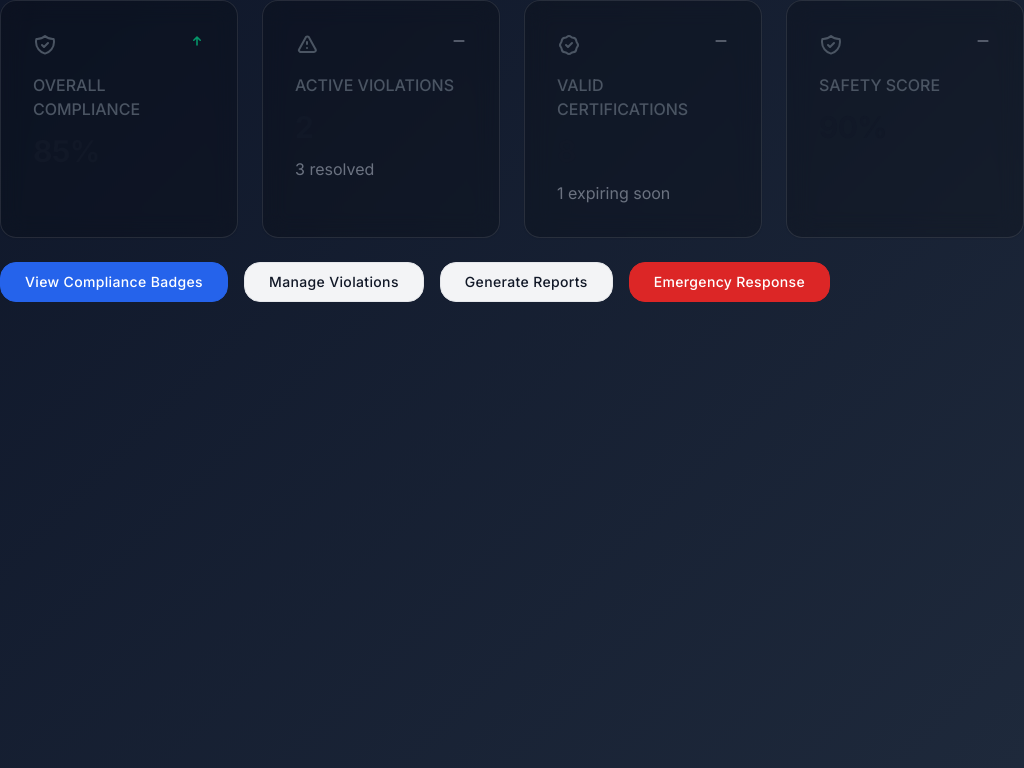
Test: ComplianceDashboard › opens badges modal when button is clicked
Click the button "View Compliance Badges". click: (114, 282)
box: [0, 262, 228, 302]
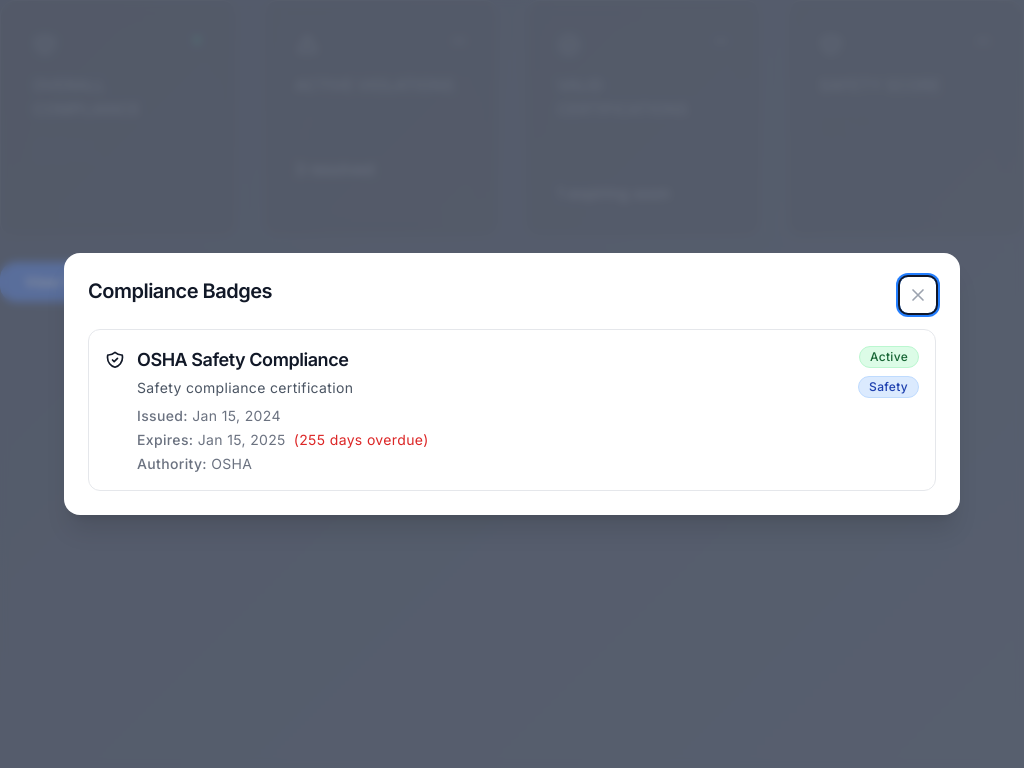
Expected: the heading "Compliance Badges" is shown, [88, 277, 288, 305]
